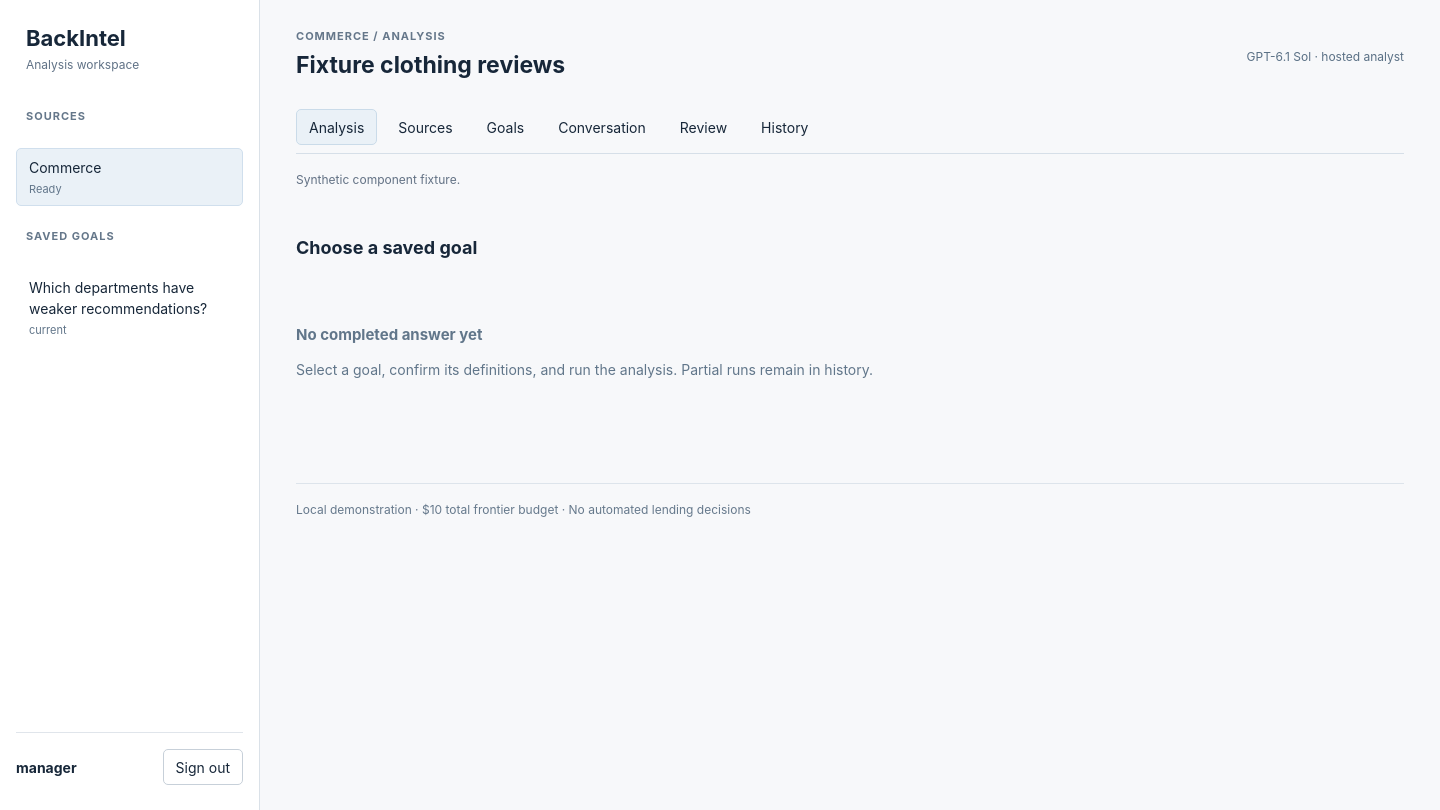
analysis workspace user controls › keeps the saved answer when fifty newer runs fill the history
Expected: the heading "Fixture clothing reviews" is shown, [296,51,565,80]
Click the button "Which departments have weaker recommendations? current": (130, 307) [16,268,243,347]
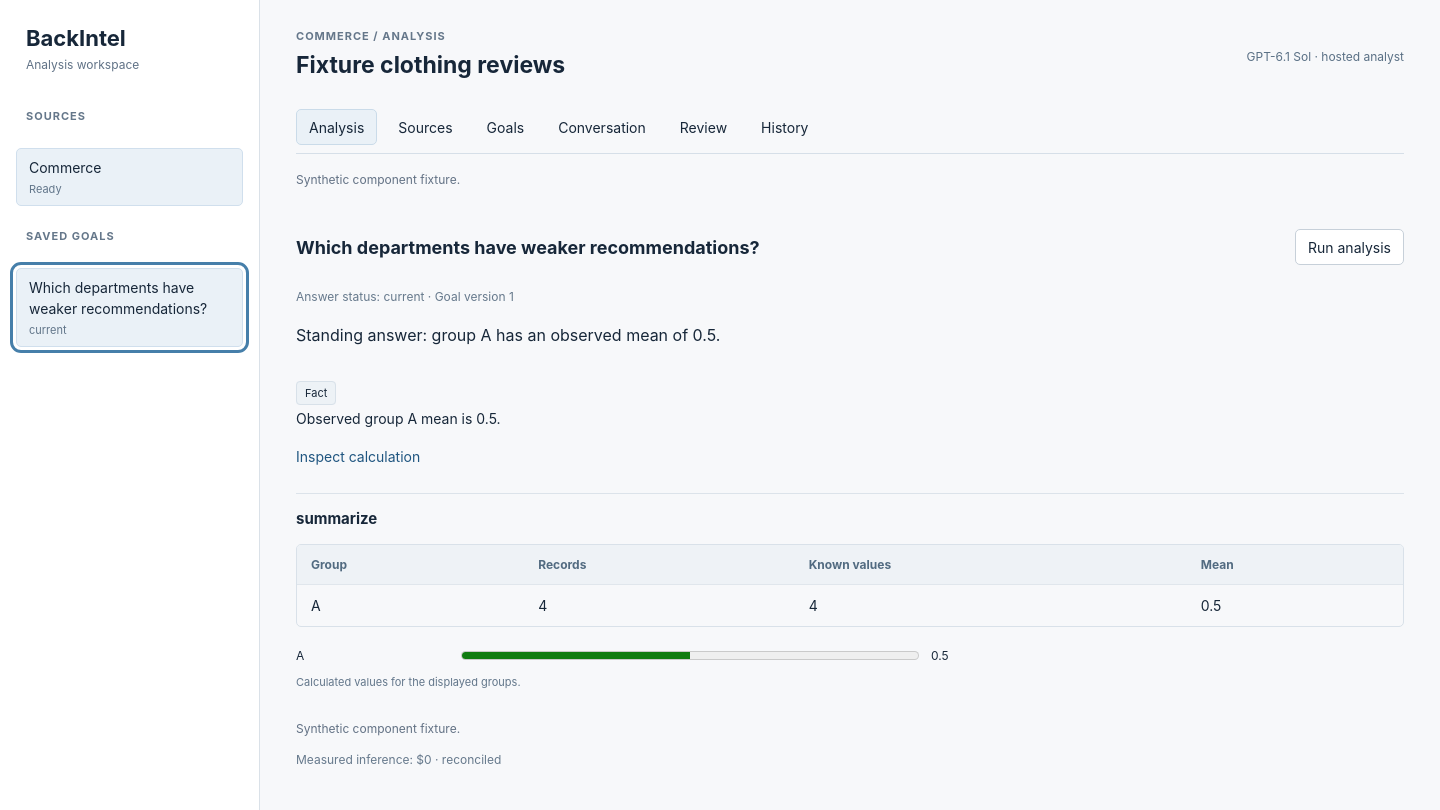
Now the text "Standing answer: group A has an observed mean of 0.5." is shown, box [296,325,720,345]
